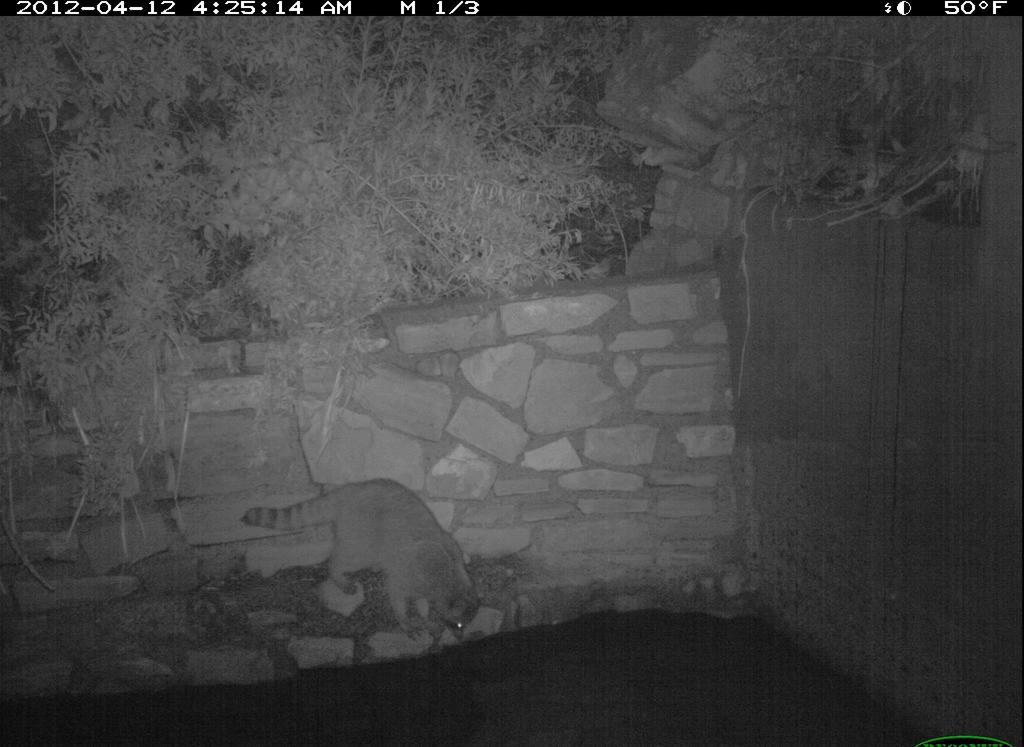raccoon: (236, 469, 486, 651)
